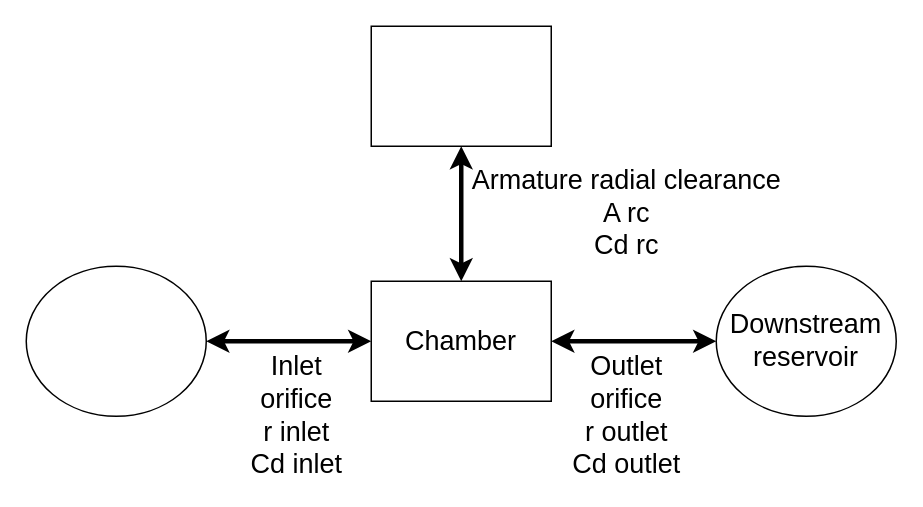
Image size: 923x507. Some labels were removed from this diagram. Here are the shapes that lost their labels. From the top down, the centre of each, then its label:
At [460,85]: "Air gap".
At [115,340]: "Upstream reservoir".
